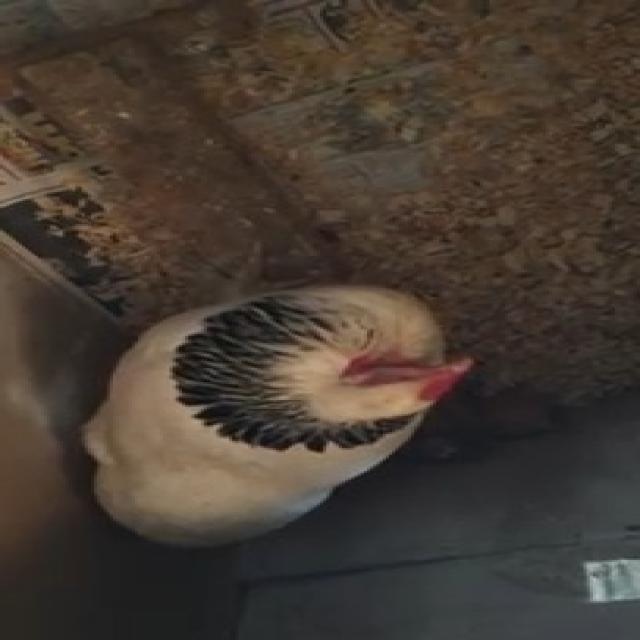Breathing: (78, 267, 480, 551)
